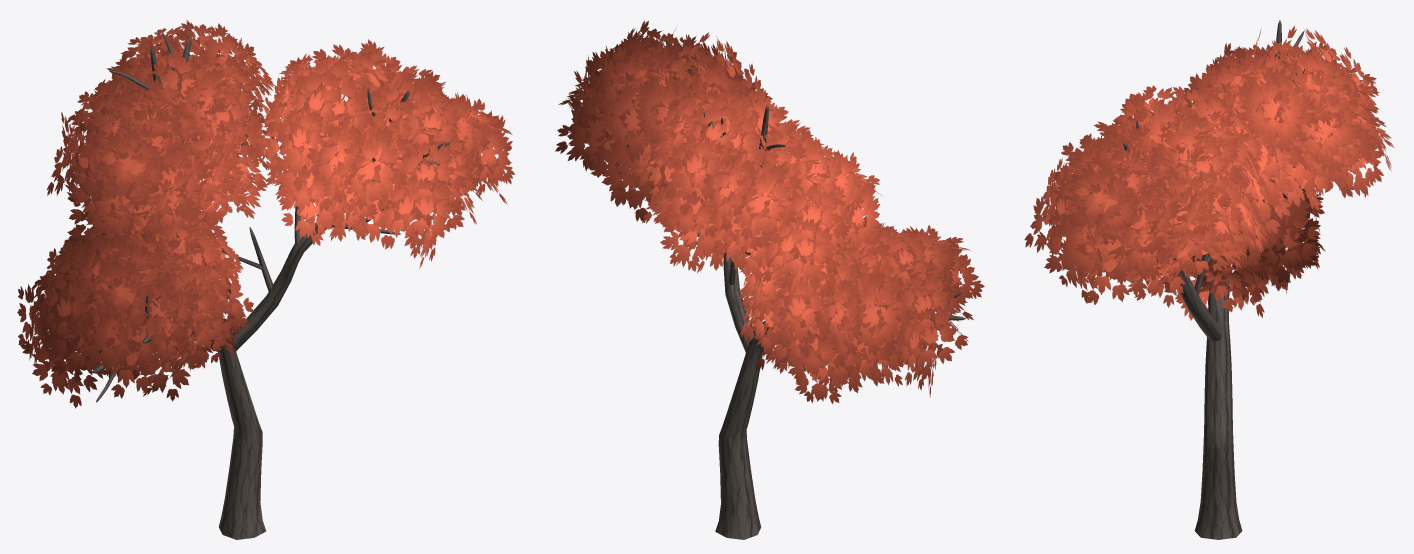
File: MapleTree_5.gltf
The picture shows the model from 3 angles, left to right: view 1: azimuth 30°, elevation 25°; view 2: azimuth 150°, elevation 25°; view 3: azimuth 270°, elevation 25°; orthographic projection. The views are drawn at different scales.
Visible parts, largest first — view 1: MapleTree_5; view 2: MapleTree_5; view 3: MapleTree_5.
Boxes of the visible parts, x1,y1,x2,y2 form: MapleTree_5: [17, 20, 514, 539]; MapleTree_5: [555, 20, 984, 539]; MapleTree_5: [1024, 20, 1394, 539].
Size of the model in its own units: 7.01 by 7.28 by 5.08.
Materials: 2 (2 with a texture image).
